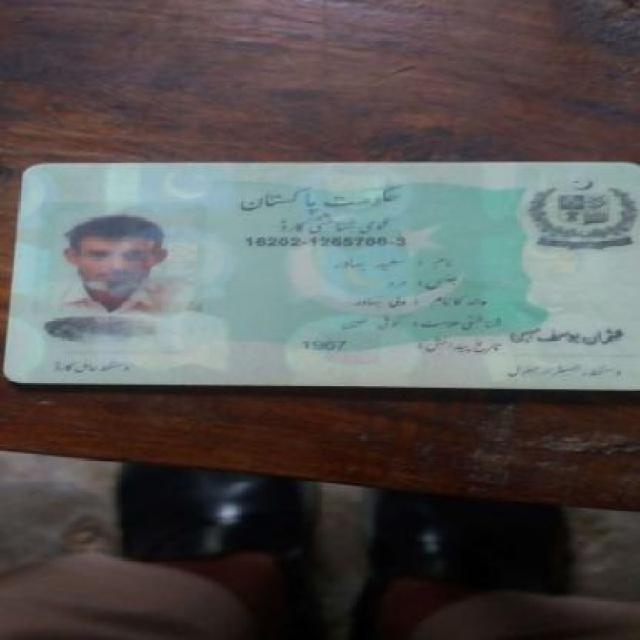Front: (9, 160, 636, 389)
